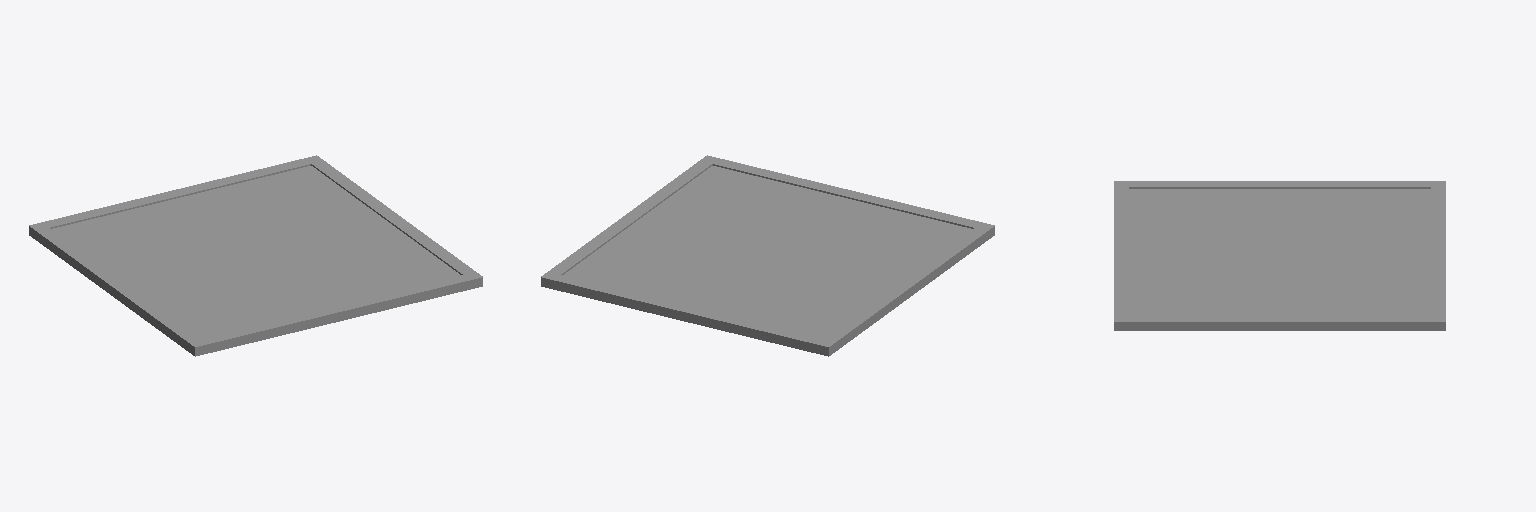
Rendered from board.obj.
3 views of the same model, side by side, from view 1: azimuth 30°, elevation 25°; view 2: azimuth 150°, elevation 25°; view 3: azimuth 270°, elevation 25° (orthographic).
Parts seen in each view (by area): view 1: board.001; view 2: board.001; view 3: board.001.
Boxes of the visible parts, box(x1,y1,x2,y2) form: board.001: box(29, 155, 482, 356); board.001: box(541, 155, 994, 356); board.001: box(1114, 181, 1445, 330).
Size of the model in its own units: 10.59 by 0.3267 by 10.59.